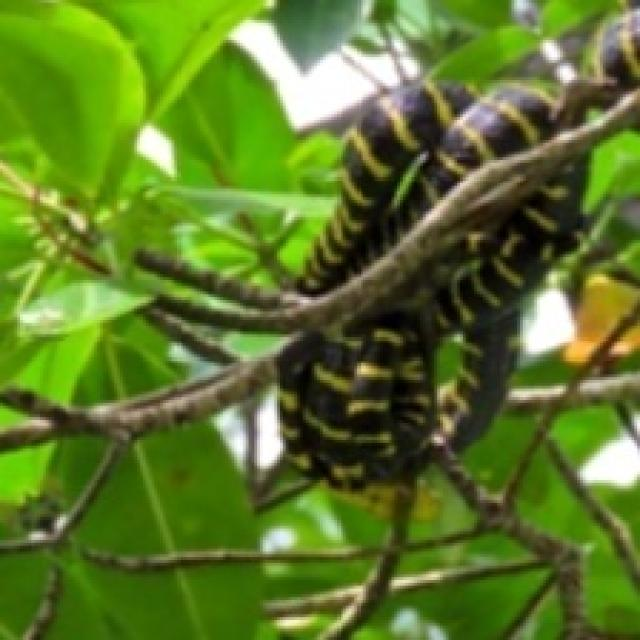mangrove cat snake: (277, 154, 637, 526), (294, 0, 637, 294)
